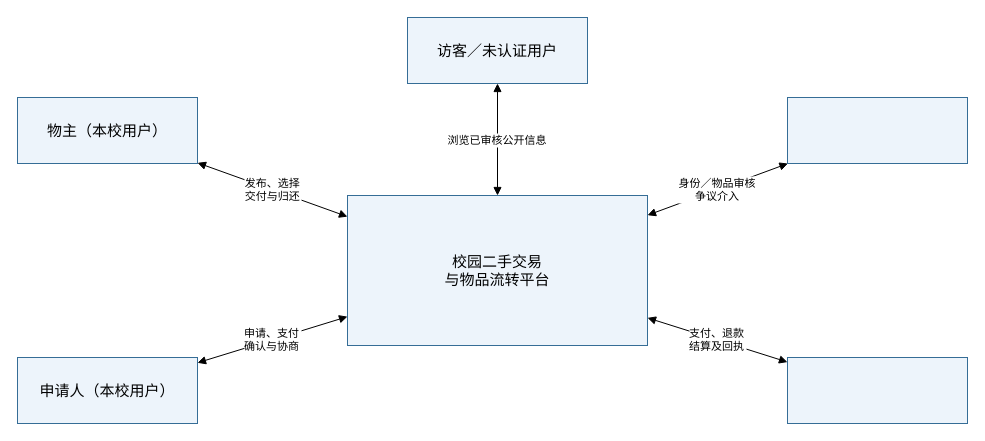
Image size: 985x441. Some labels were removed from this diagram. The centre of each missing label's shape, as x and y in pixels:
"第三方支付服务" belongs at [877,390].
"管理员" belongs at [877,130].
